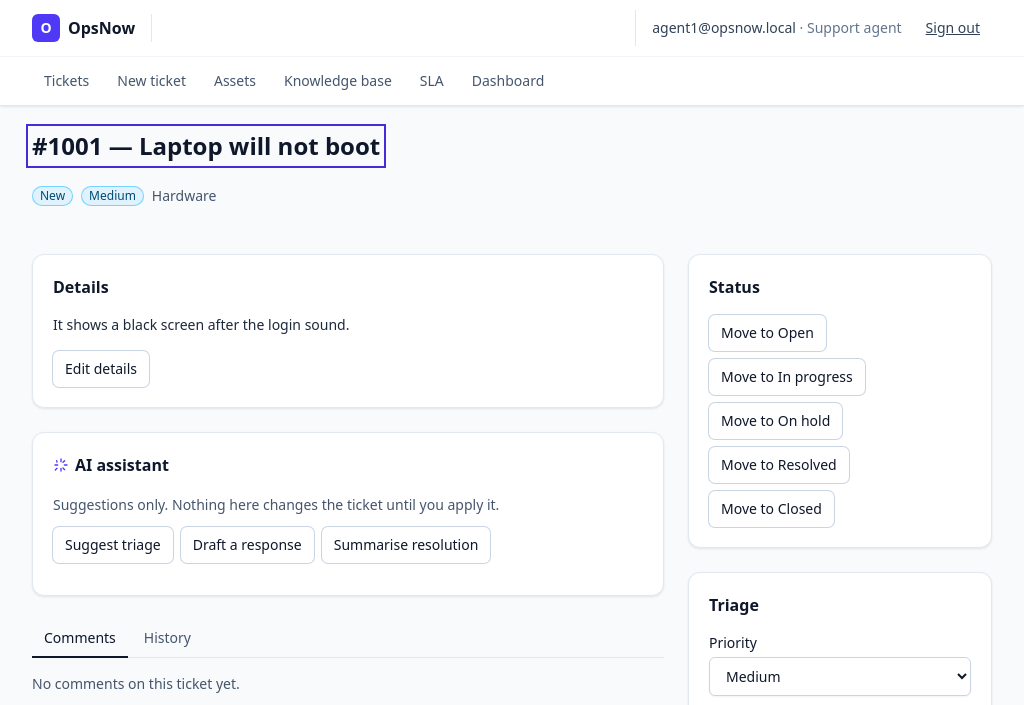
Test: AI assistant — triage › offers no Apply for a suggestion the ticket already matches
The image size is (1024, 705).
Check: the heading "#1001 — Laptop will not boot" is shown, box [32,130,380,162]
Click the button "Suggest triage" at (113, 545), box [53,527,173,563]
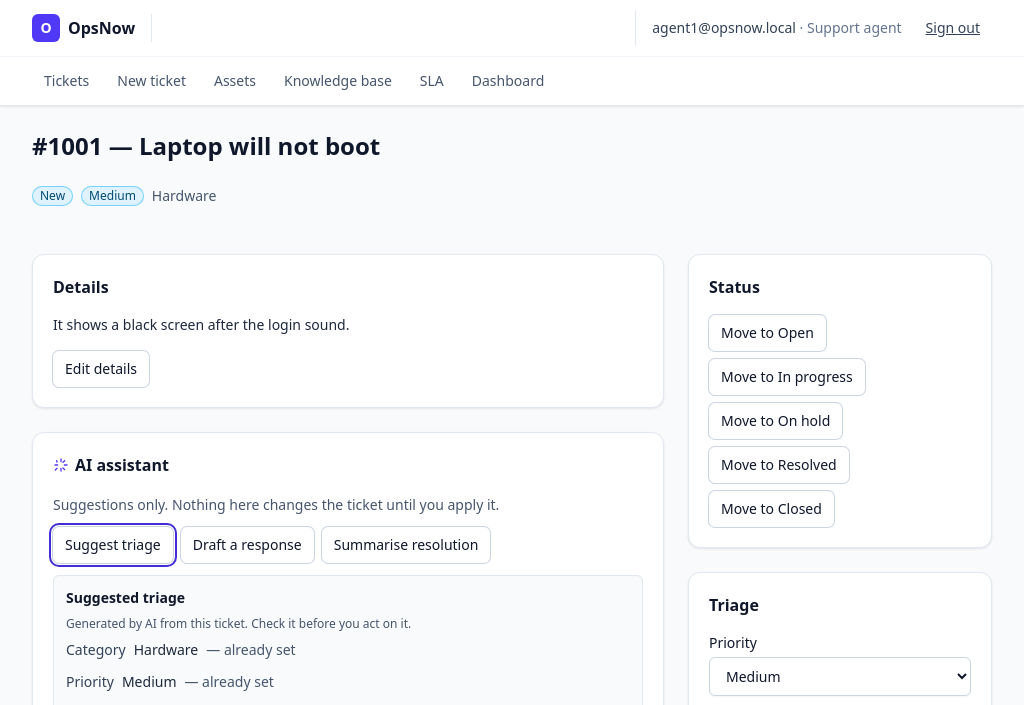
Check: the text "— already set" is shown 2 times, box [206,640,296,660]; [184,672,274,692]
